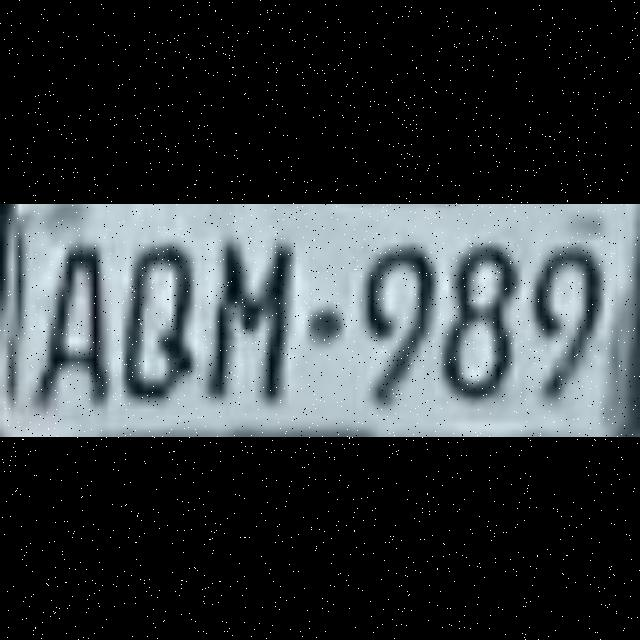8: (438, 232, 522, 412)
9: (358, 232, 440, 412), (522, 232, 604, 412)
A: (28, 232, 112, 412)
M: (192, 232, 276, 412)
Q: (112, 232, 195, 412)
